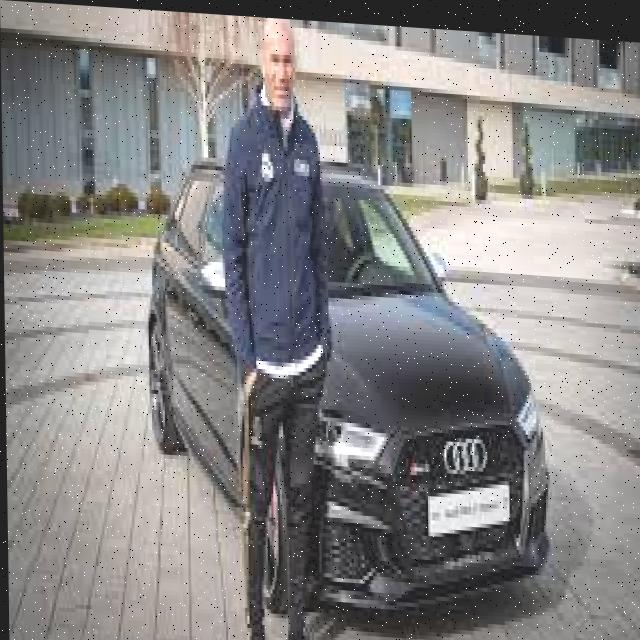car: (119, 114, 548, 612)
